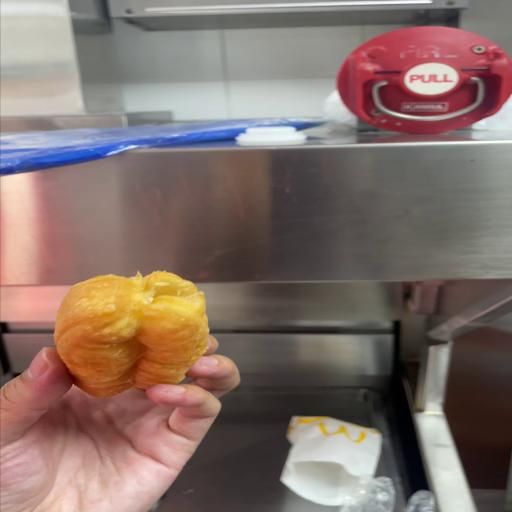brand_golden_good: (54, 271, 209, 396)
